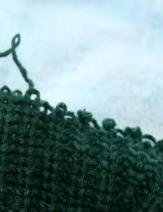snag: (0, 33, 40, 105)
